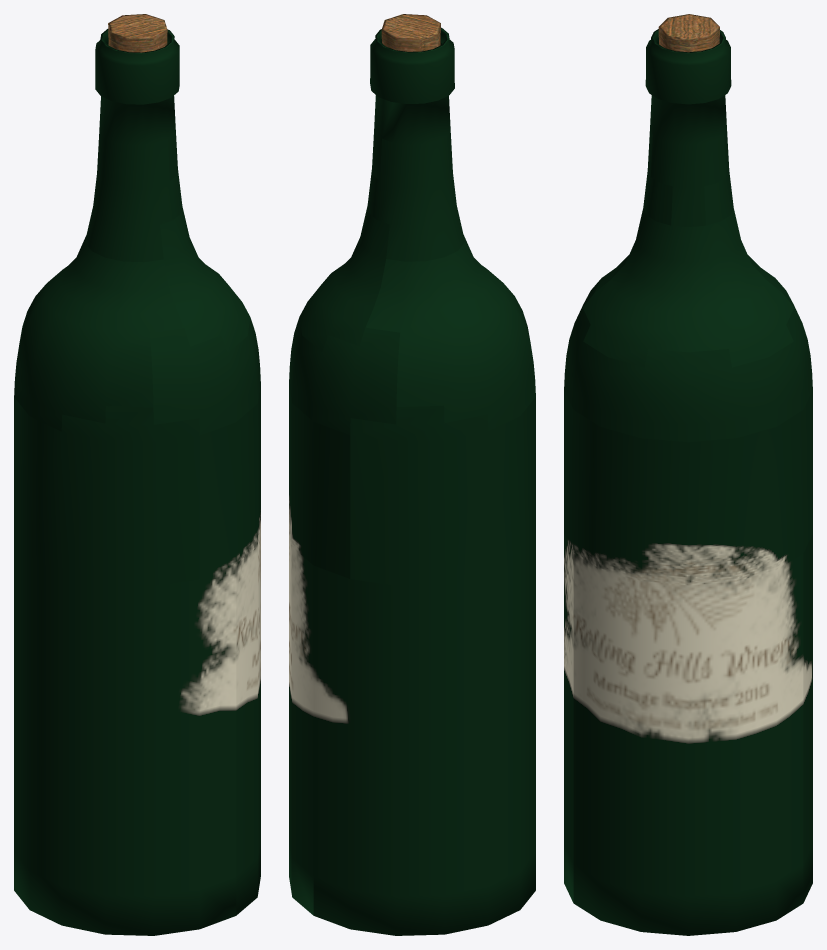
The model's file is bottle 1.fbx.
The picture shows the model from 3 angles, left to right: view 1: azimuth 30°, elevation 25°; view 2: azimuth 150°, elevation 25°; view 3: azimuth 270°, elevation 25°; orthographic projection.
Visible parts, largest first — view 1: bottle 3, bottle 3.008, bottle 3.005, bottle 3.006, bottle 3.003, bottle 3.007, bottle 3.009, bottle 3.001, bottle 3.004, bottle 3.002; view 2: bottle 3, bottle 3.008, bottle 3.005, bottle 3.003, bottle 3.006, bottle 3.007, bottle 3.009, bottle 3.001, bottle 3.004, bottle 3.002; view 3: bottle 3.009, bottle 3.007, bottle 3.004, bottle 3.006, bottle 3.002, bottle 3, bottle 3.001, bottle 3.003.
Part boxes in pixels (x1,y1,x2,y2): bottle 3: (14,541,236,935); bottle 3.008: (14,397,199,585); bottle 3.005: (14,235,184,431); bottle 3.006: (149,317,260,435); bottle 3.003: (85,132,182,262); bottle 3.007: (199,384,260,578); bottle 3.009: (236,527,260,915); bottle 3.001: (95,14,179,104); bottle 3.004: (160,206,250,352); bottle 3.002: (99,96,177,180); bottle 3: (313,541,535,935); bottle 3.008: (350,397,535,585); bottle 3.005: (365,234,535,431); bottle 3.003: (367,131,464,261); bottle 3.006: (289,317,399,434); bottle 3.007: (289,384,350,578); bottle 3.009: (289,528,313,915); bottle 3.001: (370,14,454,103); bottle 3.004: (299,206,389,351); bottle 3.002: (372,95,450,180); bottle 3.009: (573,554,803,935); bottle 3.007: (564,390,812,585); bottle 3.004: (582,208,794,367); bottle 3.006: (564,278,812,442); bottle 3.002: (650,95,726,226); bottle 3: (564,534,812,902); bottle 3.001: (645,14,731,104); bottle 3.003: (643,129,733,225).
Size of the model in its own units: 5.5 by 20.9 by 5.5.
